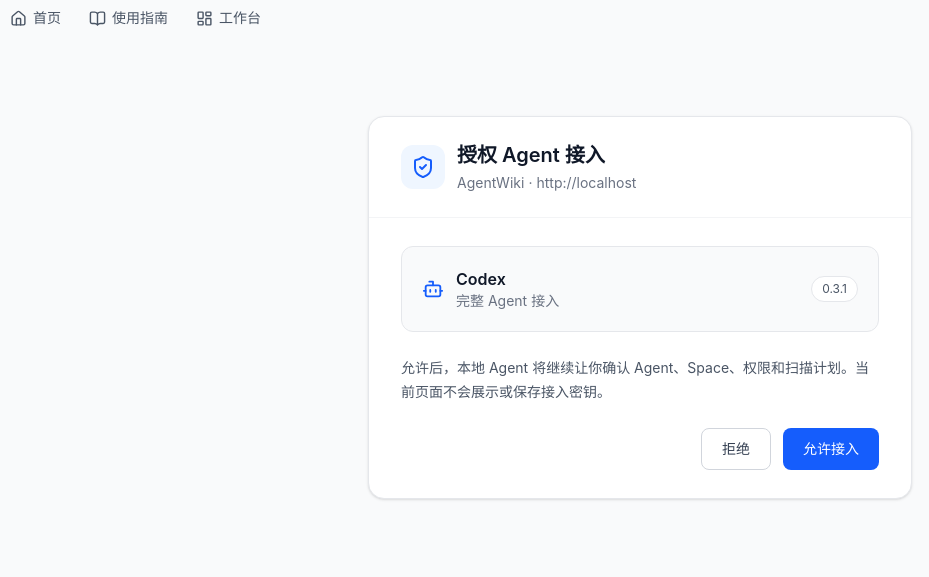
Test case: OnboardDevicePage › denies once and ends in a terminal message
Expected: the text "Codex" is shown, x1=456 y1=269 x2=506 y2=289
Click the button "拒绝". click: [736, 449]
box: x1=701 y1=428 x2=771 y2=470
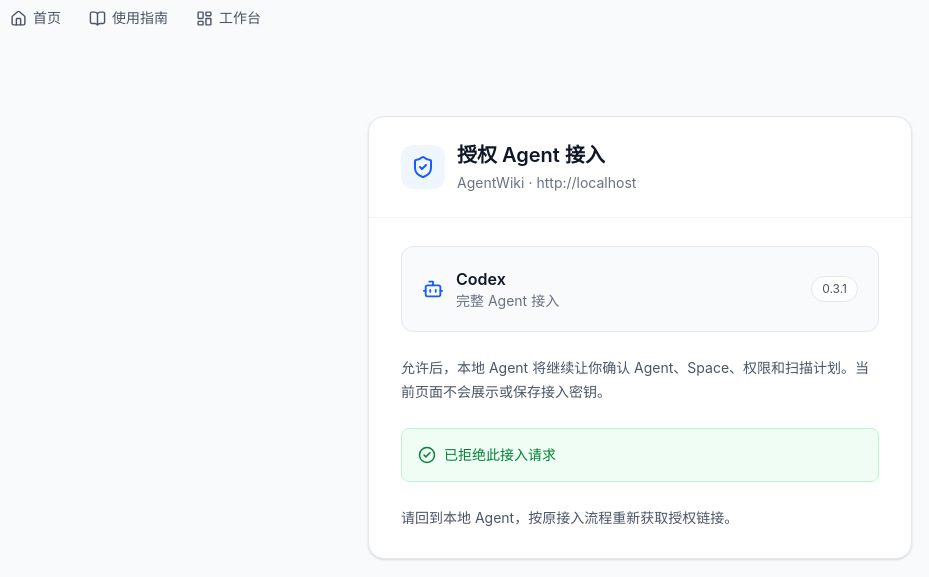
Expected: the text "已拒绝此接入请求" is shown, x1=401 y1=428 x2=879 y2=482
